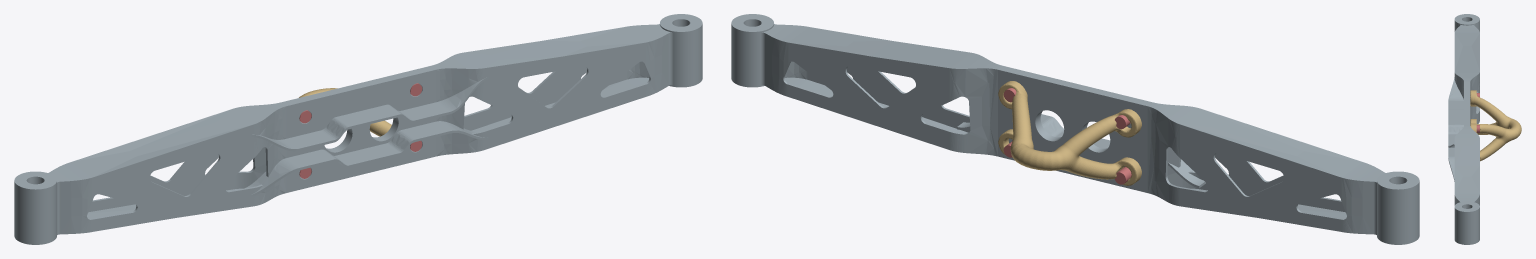
Rendered from virtual-assembly.glb.
The picture shows the model from 3 angles, left to right: view 1: azimuth 30°, elevation 25°; view 2: azimuth 150°, elevation 25°; view 3: azimuth 270°, elevation 25°; orthographic projection. The views are drawn at different scales.
Visible parts, largest first — view 1: Carrier_V5, Bracket_F0_unmeasured; view 2: Carrier_V5, Bracket_F0_unmeasured; view 3: Carrier_V5, Bracket_F0_unmeasured.
Part boxes in pixels (<box>): Carrier_V5: <box>14,14,702,244</box>; Bracket_F0_unmeasured: <box>299,88,391,136</box>; Carrier_V5: <box>731,14,1419,244</box>; Bracket_F0_unmeasured: <box>998,81,1141,185</box>; Carrier_V5: <box>1448,14,1479,244</box>; Bracket_F0_unmeasured: <box>1470,90,1521,161</box>.
Bounding box in the file's own units: 0.592 × 0.072 × 0.0928.
